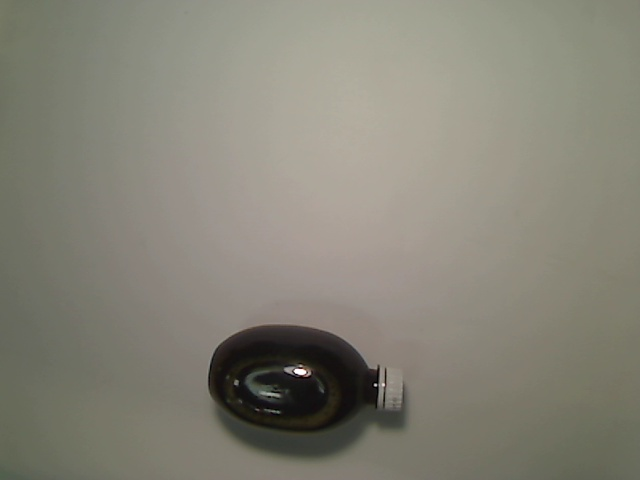plast_bottle: (206, 325, 406, 439)
